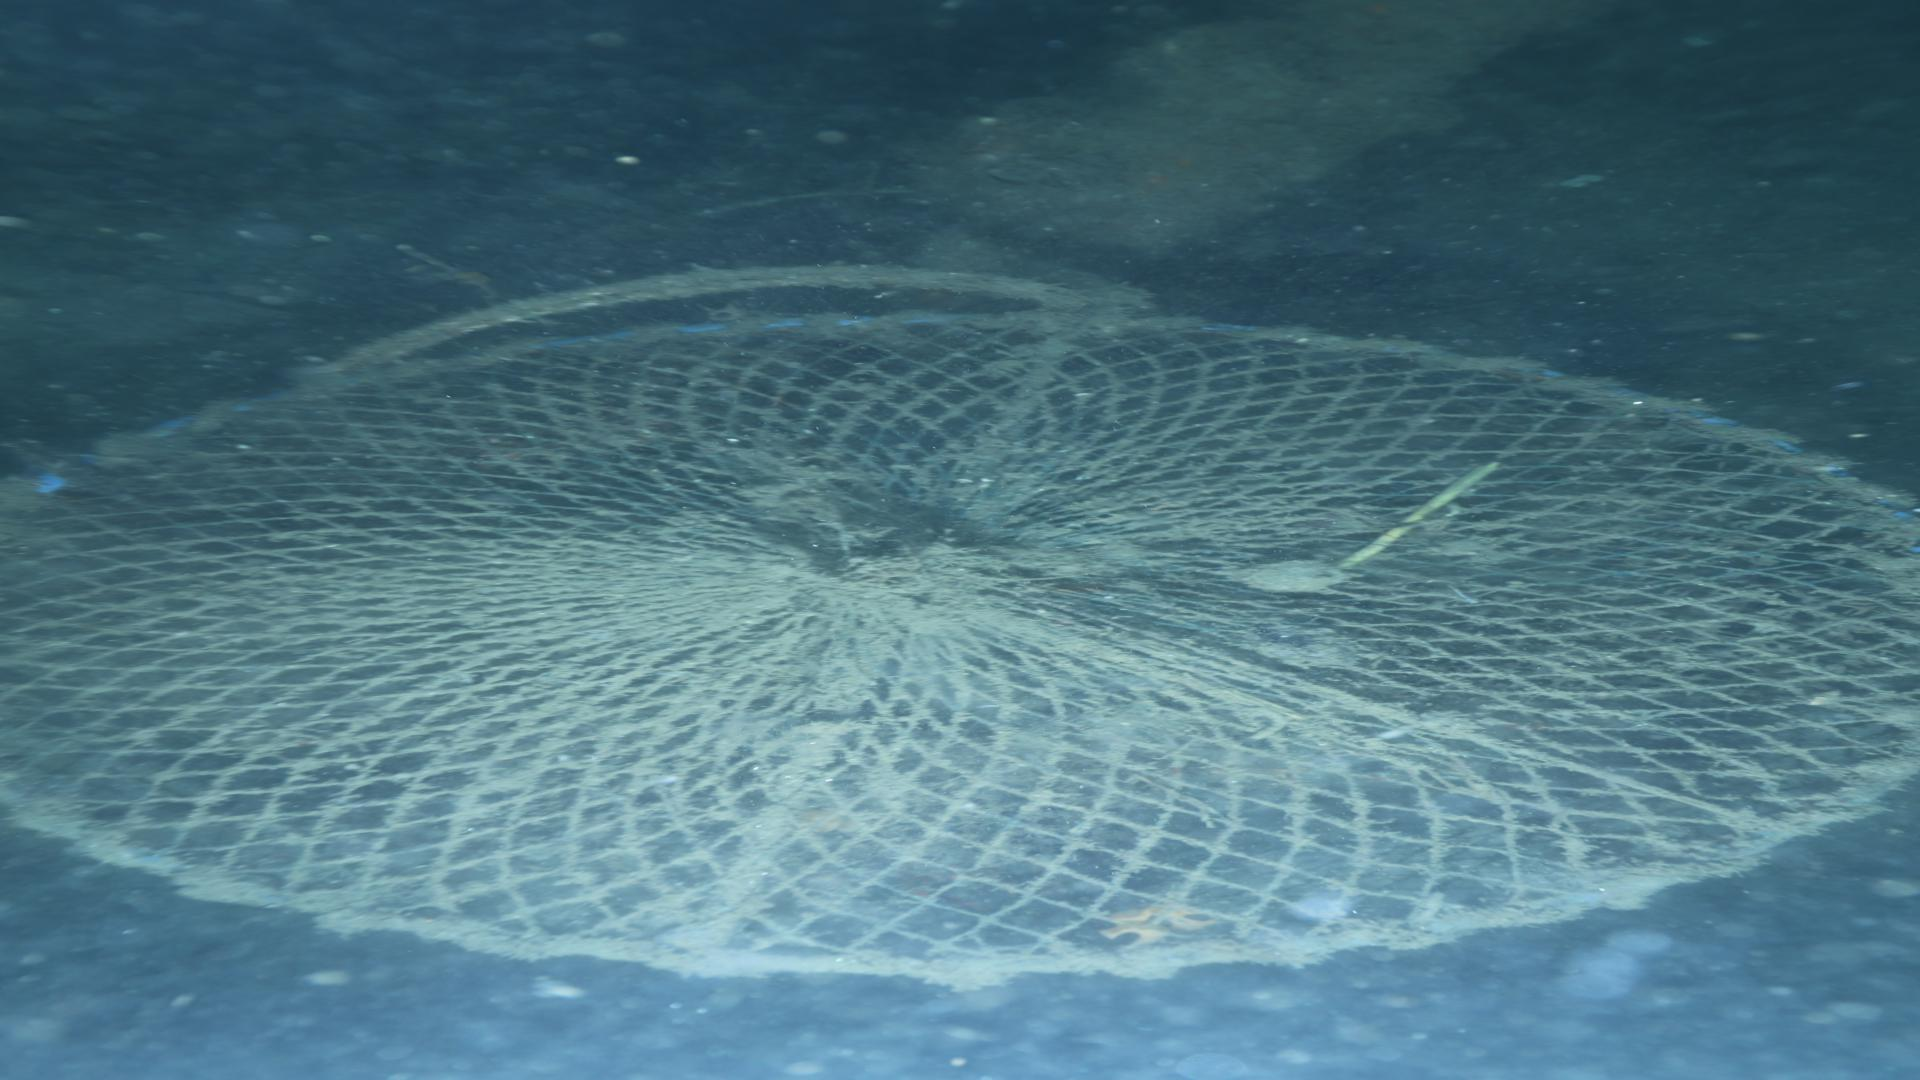circular fish trap: (0, 310, 1920, 988)
